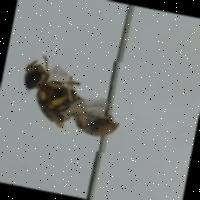Oriental-fruit-fly: (7, 43, 140, 156)
